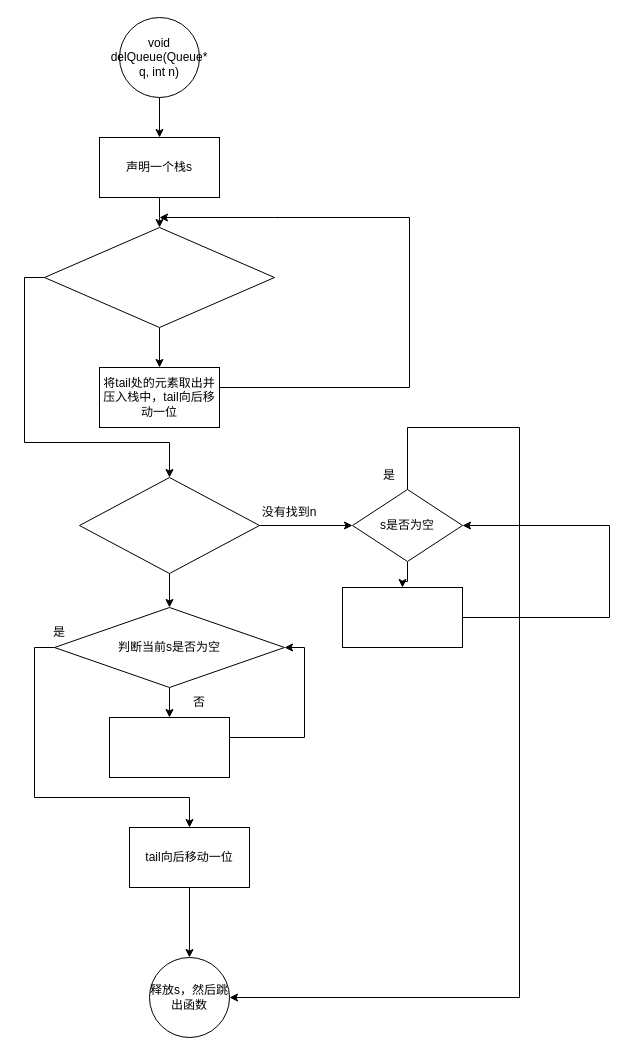
The diagram is 635 pixels wide and 1055 high, and some of its shapes have lost their labels. Here are the shapes that lost their labels. From the top down, the centre of each, then its label:
At point (159, 277): "从tail开始，当tail所指向的元素不为要找的n，以及tail不和head相等时".
At point (169, 525): "判断跳出循环时，有没有找到n".
At point (402, 617): "tail向前回退一位，出栈，赋值".
At point (169, 747): "出栈，赋值给tail指向的元素，tail--".
